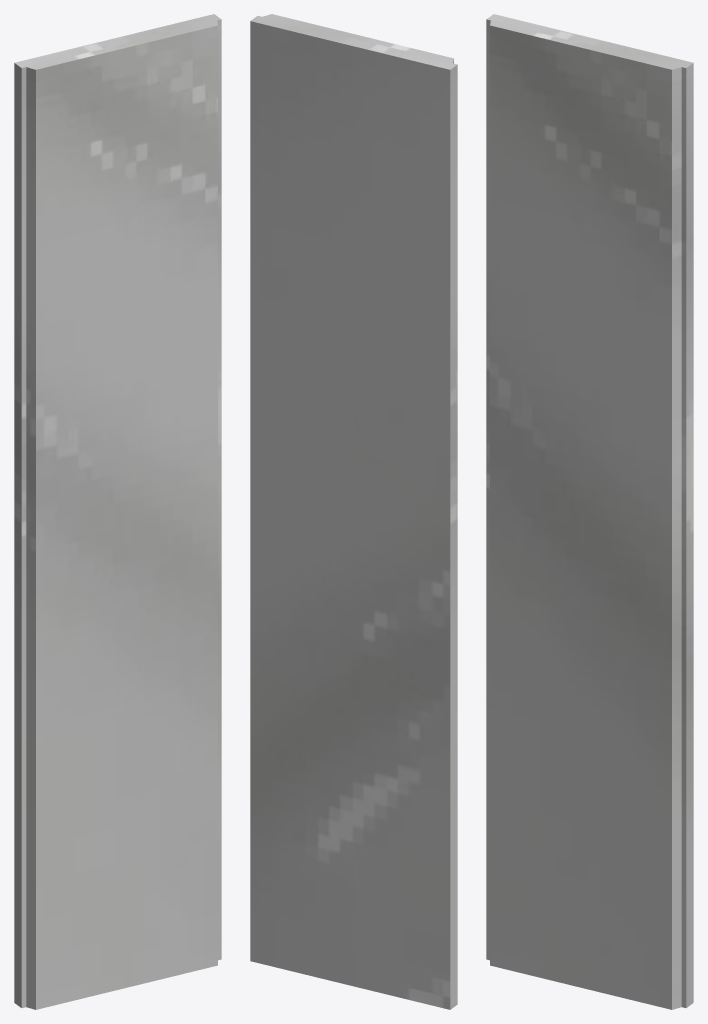
File: DefaultWallSection.fbx
3 views of the same model, side by side, from view 1: azimuth 30°, elevation 25°; view 2: azimuth 150°, elevation 25°; view 3: azimuth 330°, elevation 25° (orthographic).
Parts seen in each view (by area): view 1: pCube208; view 2: pCube208; view 3: pCube208.
Boxes of the visible parts, left/top/right/bottom form: pCube208: left=14, top=14, right=221, bottom=1009; pCube208: left=250, top=14, right=457, bottom=1009; pCube208: left=486, top=14, right=693, bottom=1009.
Bounding box in the file's own units: 124 × 559 × 13.65.
1 material, 1 textured.
